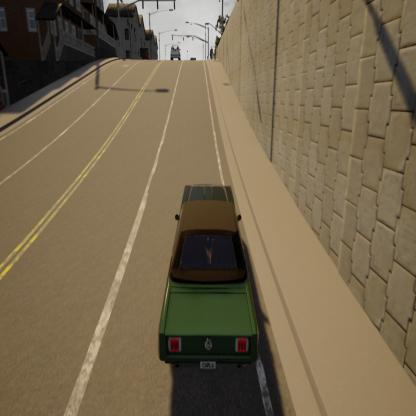Cars: (146, 164, 262, 380), (168, 43, 182, 62)
Pedestrian: (209, 44, 214, 62)
